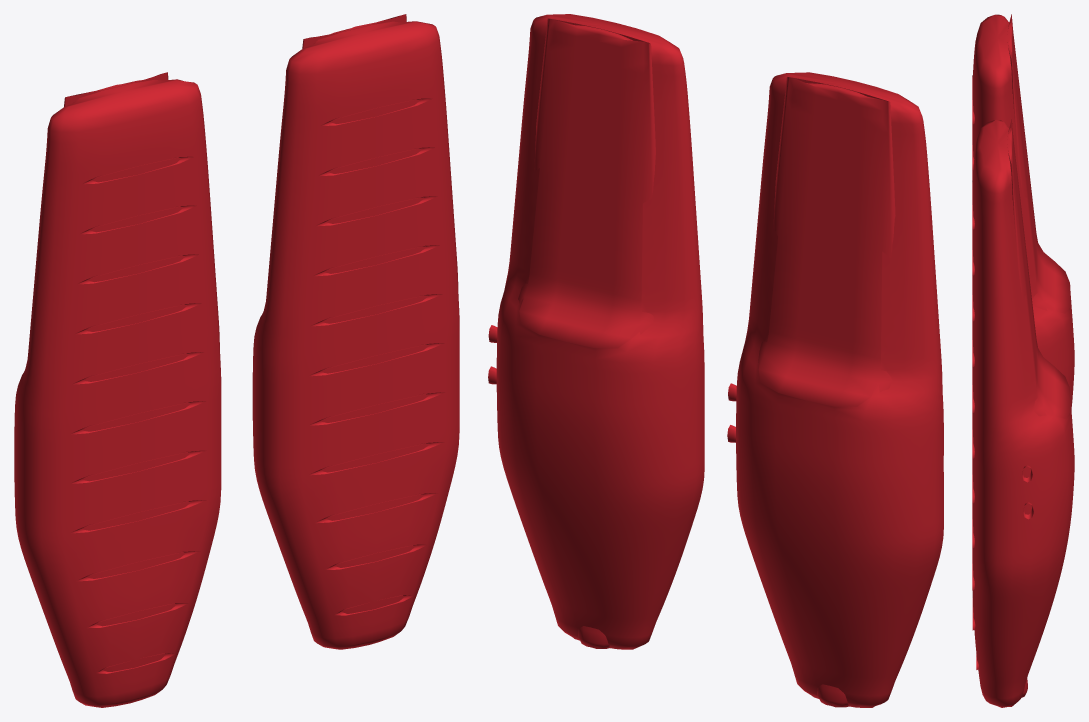
Rendered from JordanHexMule.glb.
3 renders of one model, left to right at view 1: azimuth 30°, elevation 25°; view 2: azimuth 150°, elevation 25°; view 3: azimuth 270°, elevation 25°, orthographic. The views are drawn at different scales.
Visible parts, largest first — view 1: JordanHexMule_L, JordanHexMule_R; view 2: JordanHexMule_R, JordanHexMule_L; view 3: JordanHexMule_R, JordanHexMule_L.
Boxes of the visible parts, box(x1,y1,x2,y2) form: JordanHexMule_L: box(14, 72, 221, 707); JordanHexMule_R: box(252, 14, 459, 649); JordanHexMule_R: box(488, 14, 704, 649); JordanHexMule_L: box(727, 72, 943, 707); JordanHexMule_R: box(972, 119, 1074, 707); JordanHexMule_L: box(972, 14, 1074, 409).
Size of the model in its own units: 21.12 by 28.45 by 4.77.
